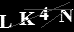4: (38, 6, 50, 20)
K: (18, 11, 35, 25)
L: (1, 14, 12, 28)
N: (59, 9, 74, 23)
